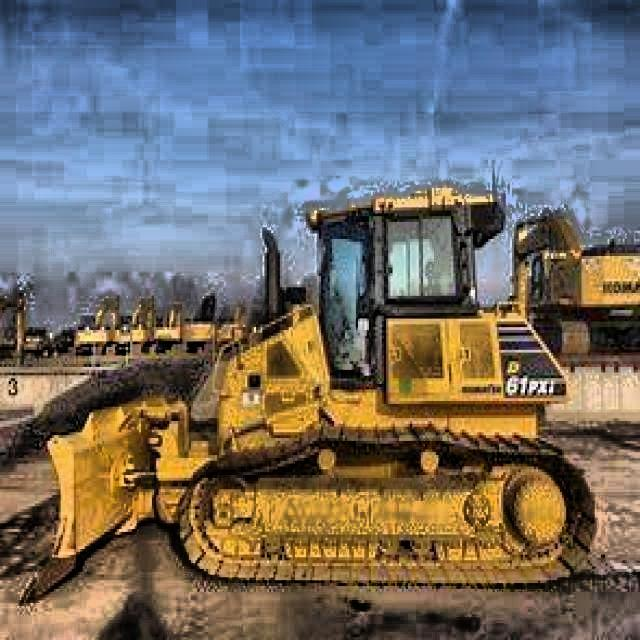bull_dozer/loader/grader: (20, 165, 628, 594)
